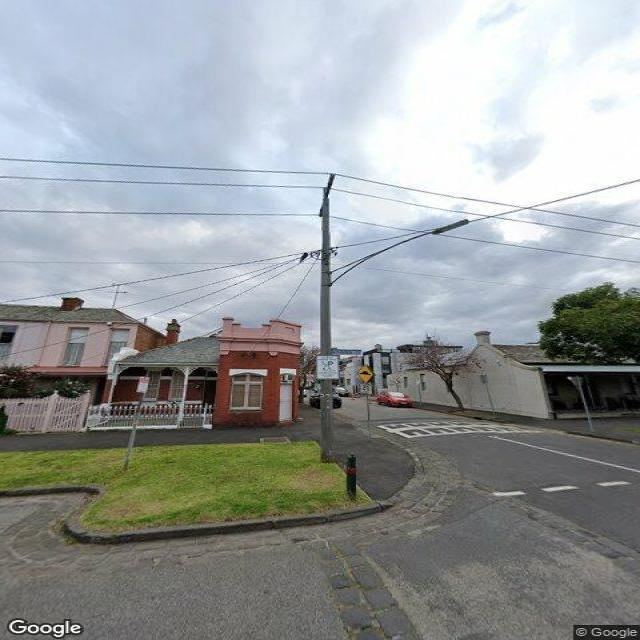crossarm: (318, 173, 336, 218)
streetlight: (329, 218, 469, 286)
timber-pole: (320, 198, 342, 462)
